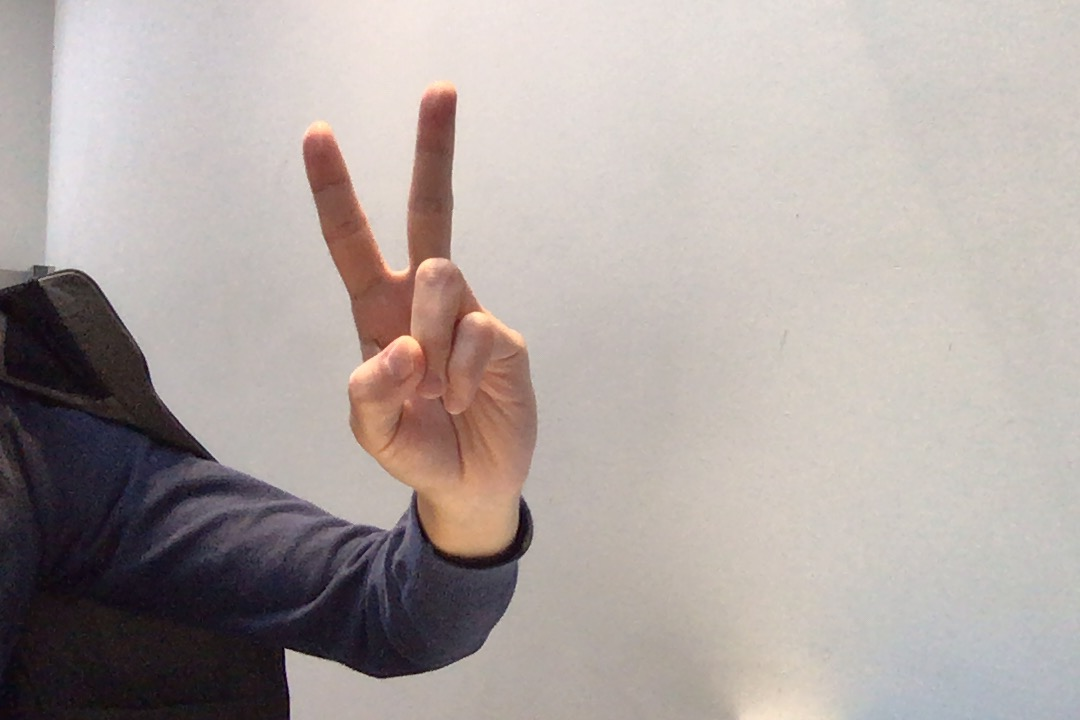peacesign: (287, 76, 554, 516)
